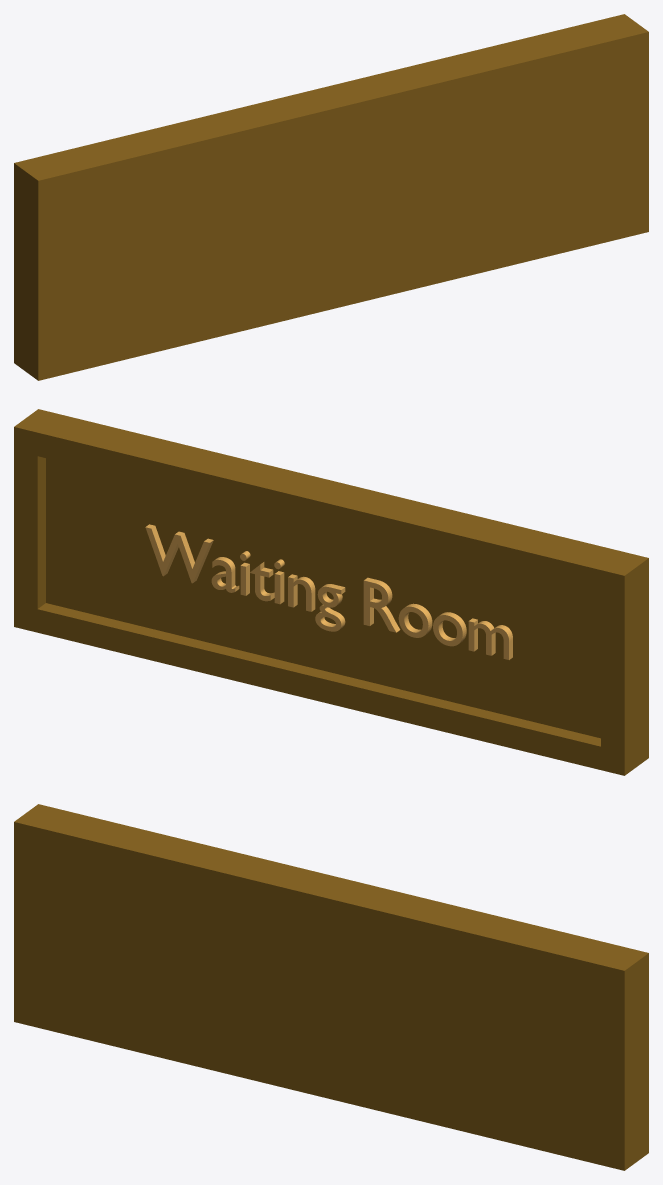
Rendered from WR_Sign.fbx.
3 renders of one model, top to bottom at view 1: azimuth 30°, elevation 25°; view 2: azimuth 150°, elevation 25°; view 3: azimuth 330°, elevation 25°, orthographic.
Parts seen in each view (by area): view 1: waiting_room_Sign; view 2: waiting_room_Sign; view 3: waiting_room_Sign.
Boxes of the visible parts, x1,y1,x2,y2 form: waiting_room_Sign: (14, 14, 648, 380); waiting_room_Sign: (14, 409, 648, 775); waiting_room_Sign: (14, 804, 648, 1170).
Bounding box in the file's own units: 984 × 308 × 68.12.
